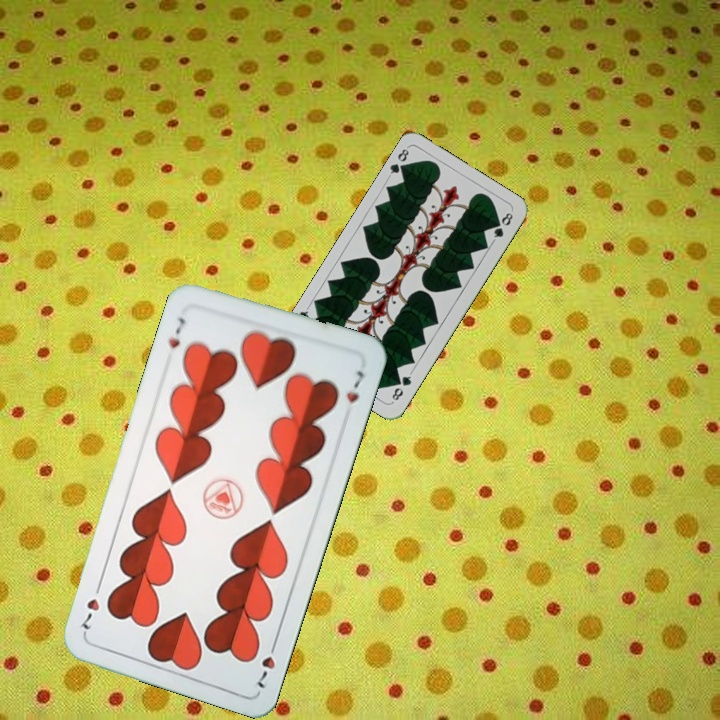G8: (384, 143, 412, 180), (388, 368, 414, 405)
H7: (252, 635, 280, 691), (164, 313, 189, 352)
